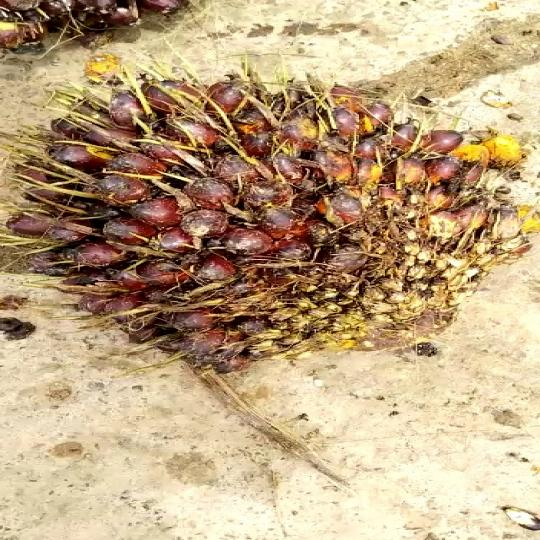kurang masak: (43, 58, 506, 356)
